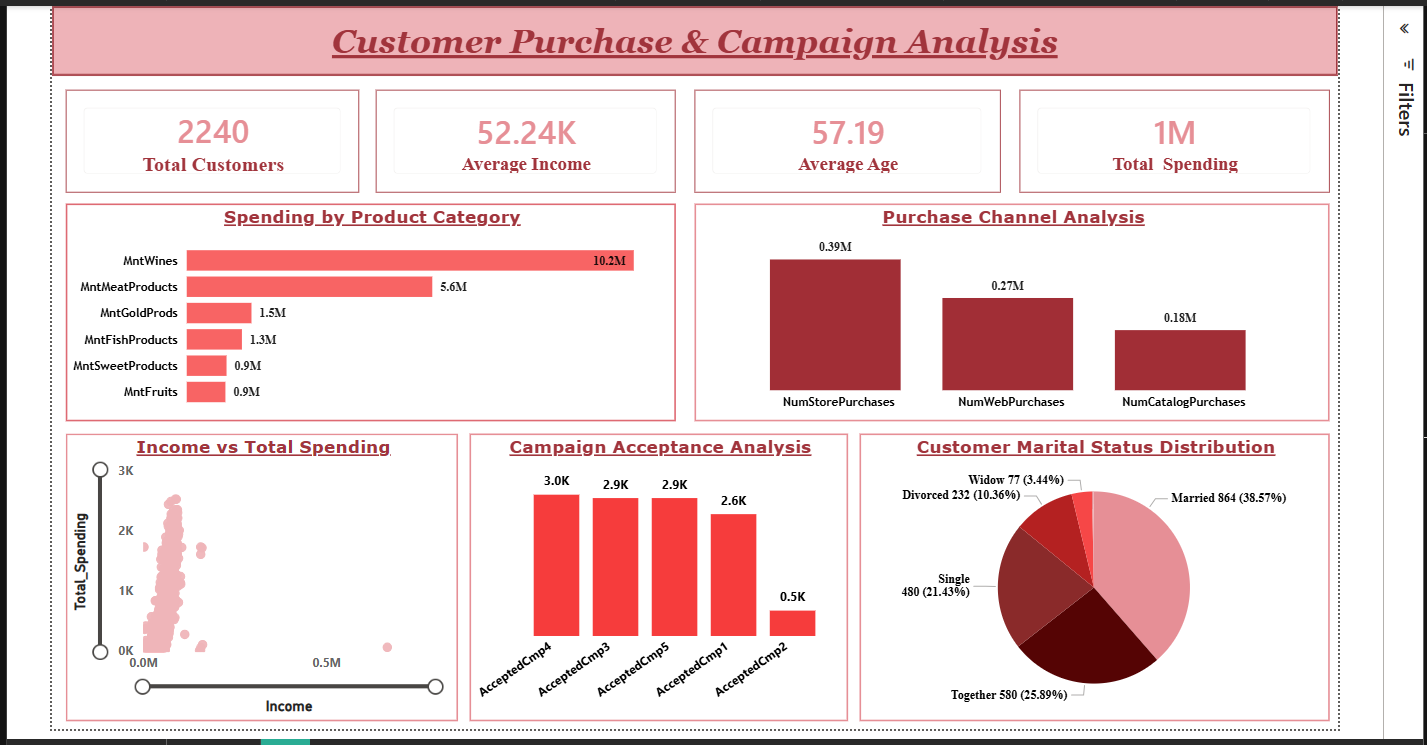

Layout of this report page (visuals, bound fields, positions):
{"tool":"powerbi","page":{"name":"Page 1","canvas":[1280,720],"ordinal":0},"visuals":[{"type":"shape","box":[0,0,1280,69.7],"z":0},{"type":"cardVisual","fields":{"Data":["Measures Table.Total Customers"]},"box":[13.7,83.3,292.3,102],"z":1},{"type":"cardVisual","fields":{"Data":["Measures Table.Average Income"]},"box":[322.2,83.3,298.6,102],"z":2},{"type":"cardVisual","fields":{"Data":["Measures Table.Average Age"]},"box":[639.4,83.3,304.8,102],"z":3},{"type":"cardVisual","fields":{"Data":["Sum(marketing_campaign_cleaned.Total_Spending)"]},"box":[962.8,83.3,308.5,102],"z":4},{"type":"clusteredBarChart","title":"Spending by Product Category","fields":{"Category":["marketing_campaign_cleaned (2).Product Category"],"Y":["Sum(marketing_campaign_cleaned (2).Spending)"]},"box":[13.7,196.5,607.1,216.4],"z":5},{"type":"clusteredColumnChart","title":"Purchase Channel Analysis","fields":{"Category":["marketing_campaign_cleaned (2).Channels"],"Y":["Sum(marketing_campaign_cleaned (2).Purchases)"]},"box":[639.4,196.5,631.9,216.4],"z":6},{"type":"scatterChart","title":"Income vs Total Spending","fields":{"X":["marketing_campaign_cleaned.Income"],"Y":["marketing_campaign_cleaned.Total_Spending"]},"box":[13.7,425.4,390.6,286.1],"z":7},{"type":"clusteredColumnChart","title":"Campaign Acceptance Analysis","fields":{"Category":["marketing_campaign_cleaned (2).Campaigns"],"Y":["Sum(marketing_campaign_cleaned (2).Accepted)"]},"box":[415.5,425.4,376.9,286.1],"z":8},{"type":"pieChart","title":"Customer Marital Status Distribution","fields":{"Category":["marketing_campaign_cleaned.Marital_Status"],"Y":["CountNonNull(marketing_campaign_cleaned.ID)"]},"box":[803.6,425.4,467.7,286.1],"z":9}]}

Visuals, with their boxes in screenshot pixels (x1, y1, x2, y2):
shape: <box>126,4,1426,75</box>
cardVisual - Measures Table.Total Customers: <box>140,89,438,192</box>
cardVisual - Measures Table.Average Income: <box>454,89,758,192</box>
cardVisual - Measures Table.Average Age: <box>777,89,1088,192</box>
cardVisual - Sum(marketing_campaign_cleaned.Total_Spending): <box>1106,89,1421,192</box>
"Spending by Product Category" clusteredBarChart: <box>140,204,758,424</box>
"Purchase Channel Analysis" clusteredColumnChart: <box>777,204,1421,424</box>
"Income vs Total Spending" scatterChart: <box>140,437,538,728</box>
"Campaign Acceptance Analysis" clusteredColumnChart: <box>549,437,933,728</box>
"Customer Marital Status Distribution" pieChart: <box>944,437,1421,728</box>
